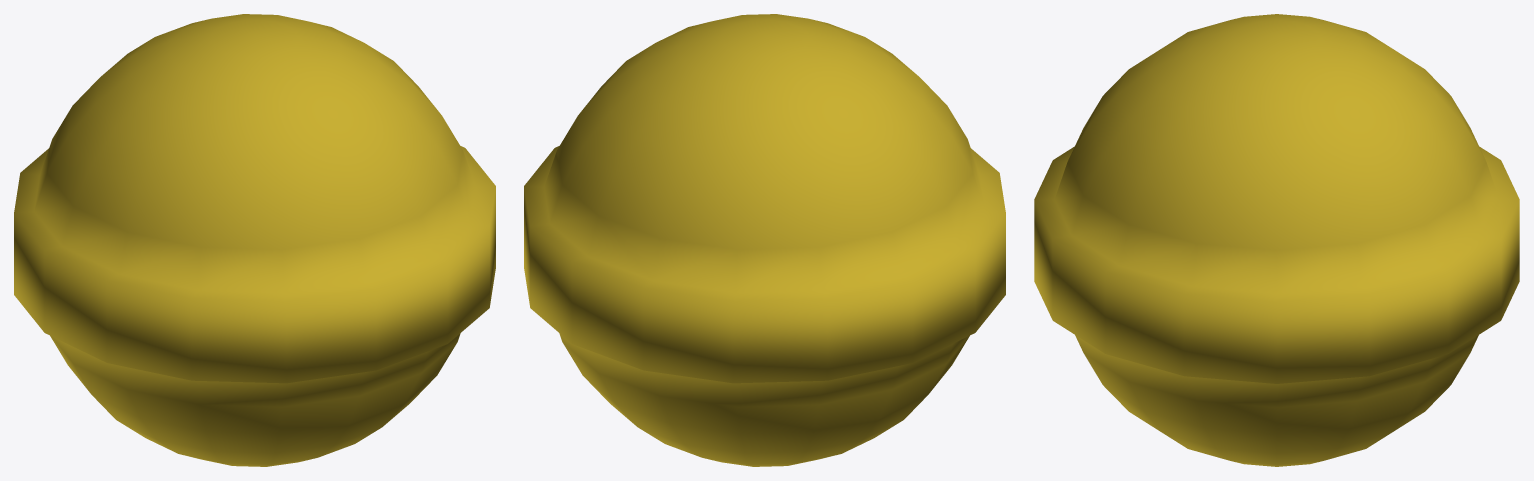
File: Floater.fbx
3 views of the same model, side by side, from view 1: azimuth 30°, elevation 25°; view 2: azimuth 150°, elevation 25°; view 3: azimuth 270°, elevation 25° (orthographic).
Parts seen in each view (by area): view 1: Floater; view 2: Floater; view 3: Floater.
Boxes of the visible parts, x1=… form: Floater: x1=14, y1=14, x2=495, y2=466; Floater: x1=524, y1=14, x2=1005, y2=466; Floater: x1=1034, y1=14, x2=1519, y2=466.
Size of the model in its own units: 2.14 by 2.14 by 2.
